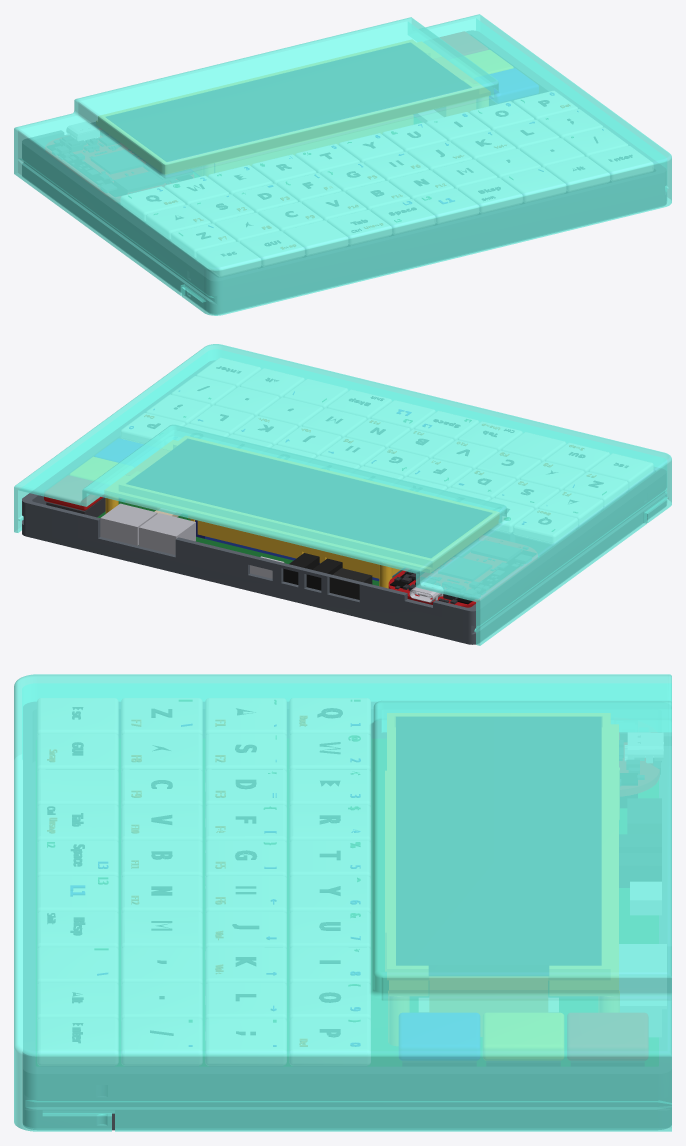
File: cover_slate.glb
3 renders of one model, top to bottom at view 1: azimuth 30°, elevation 25°; view 2: azimuth 150°, elevation 25°; view 3: azimuth 270°, elevation 25°, orthographic. The views are drawn at different scales.
Parts seen in each view (by area): view 1: Lid, Internals, Tray; view 2: Lid, Internals, Tray; view 3: Lid, Internals, Tray.
Boxes of the visible parts, <box> form: Lid: <box>14,14,671,315</box>; Internals: <box>45,32,652,276</box>; Tray: <box>22,31,665,314</box>; Lid: <box>14,344,671,645</box>; Internals: <box>44,358,652,607</box>; Tray: <box>22,361,665,644</box>; Lid: <box>14,674,671,1131</box>; Internals: <box>36,698,666,1065</box>; Tray: <box>23,702,671,1130</box>.
Size of the model in its own units: 0.1818 by 0.0232 by 0.133.
